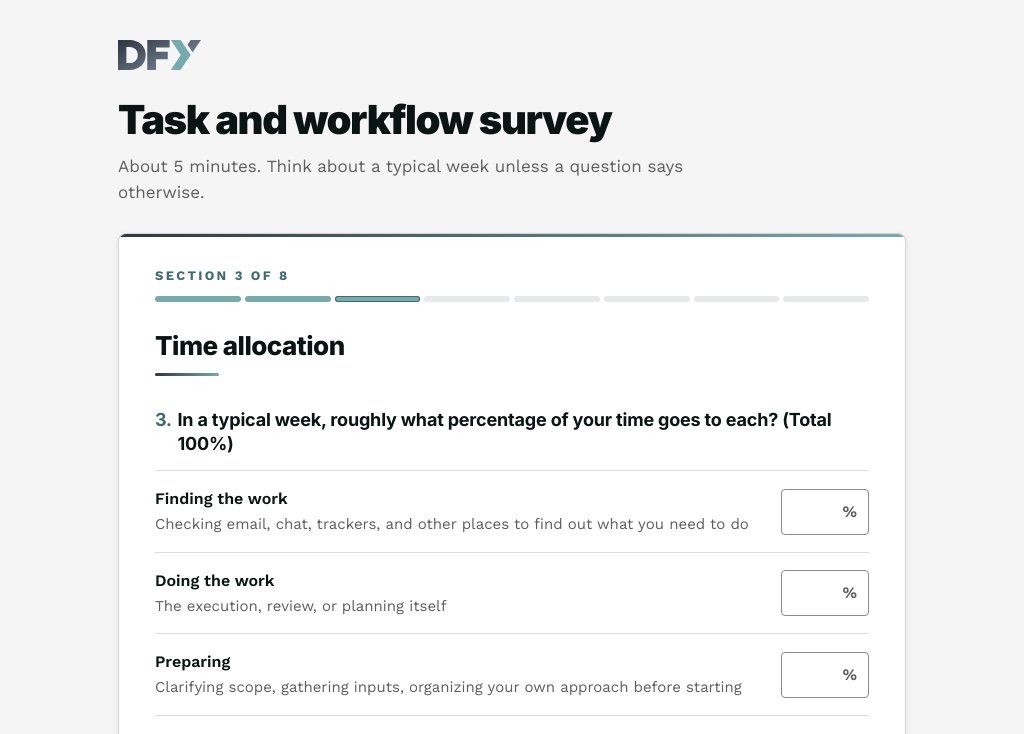
it: allocation › shows a running total and blocks Next until the total is exactly 100
This screenshot has width=1024, height=734.
Check: the heading "Time allocation" is shown, box [155,330,345,360]
In the number field labelled "Doing the work": (825, 593) [781,570,869,616], type "50"
In the number field labelled "Preparing": (825, 674) [781,652,869,698], type "30"
(page scrolled)
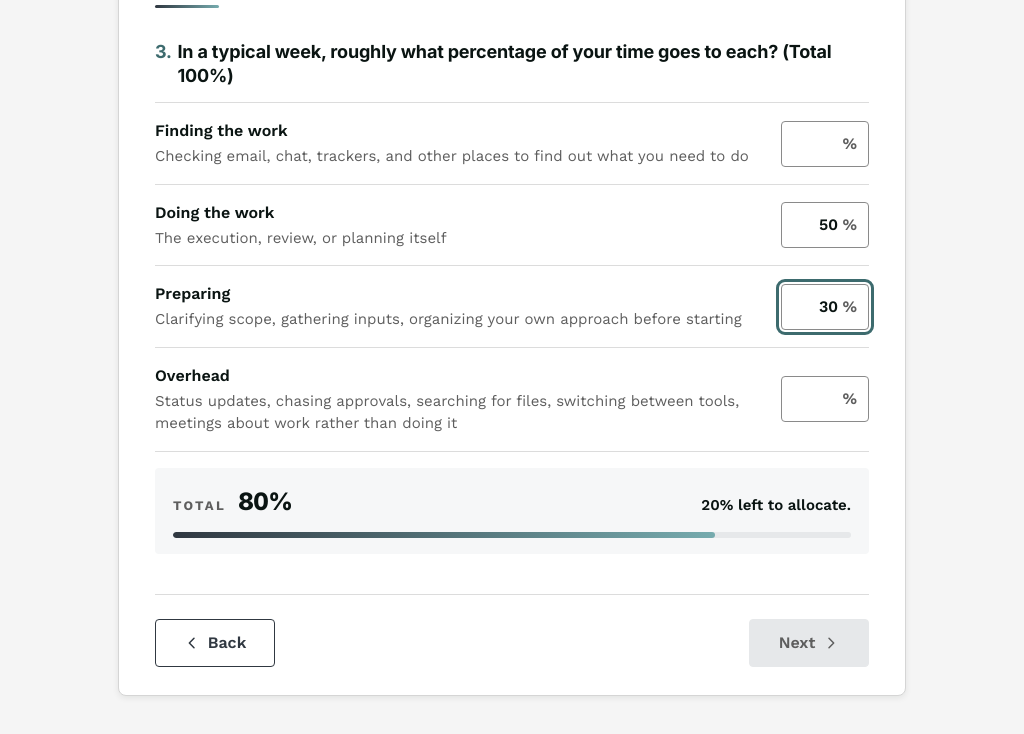
In the number field labelled "Overhead": (825, 399) [781,376,869,422], type "10"
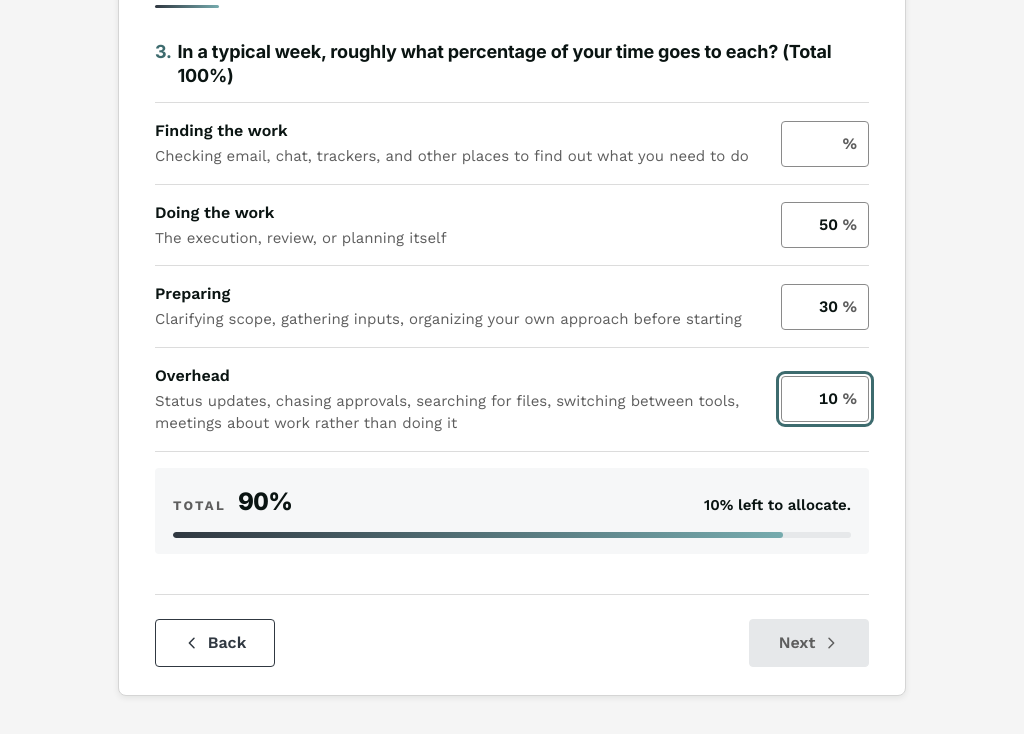
Check: the text "90%" is shown, box [238,484,292,520]
Check: the message with class "allocation__total-status" reads "10% left to allocate.", box [704,496,851,514]
Click the button "Next": (809, 643) [749,619,869,667]
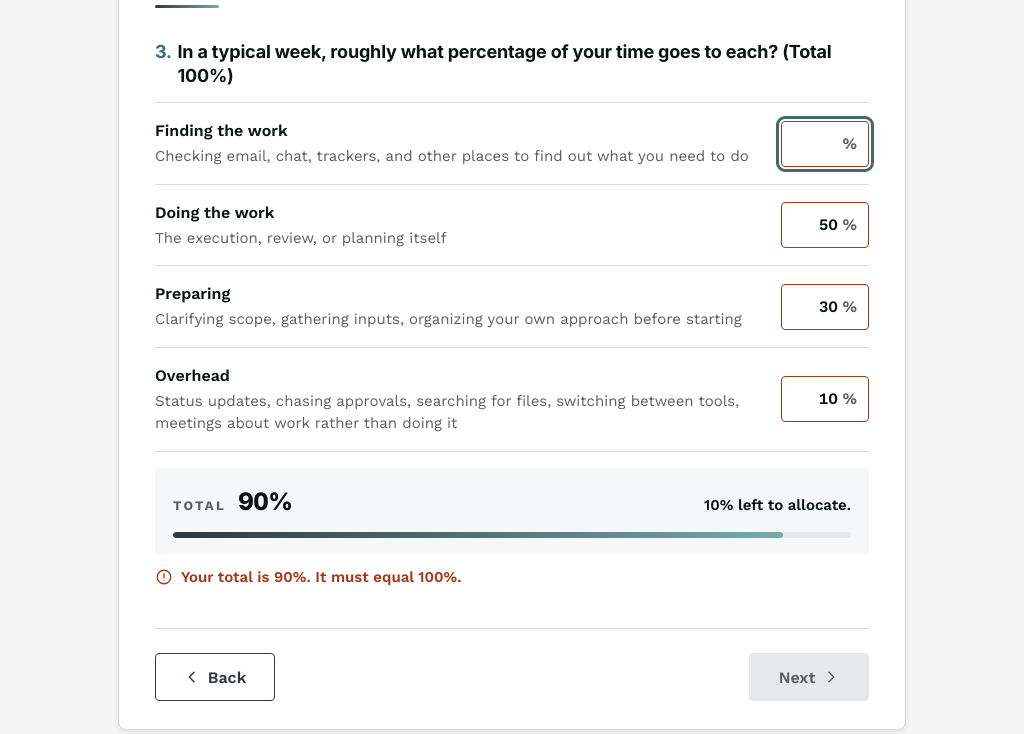
Check: the text "Your total is 90%. It must equal 100%." is shown, box [155,568,461,586]
Replace the text in the number field labelled "Overhead" with "30": (825, 399) [781,376,869,422]
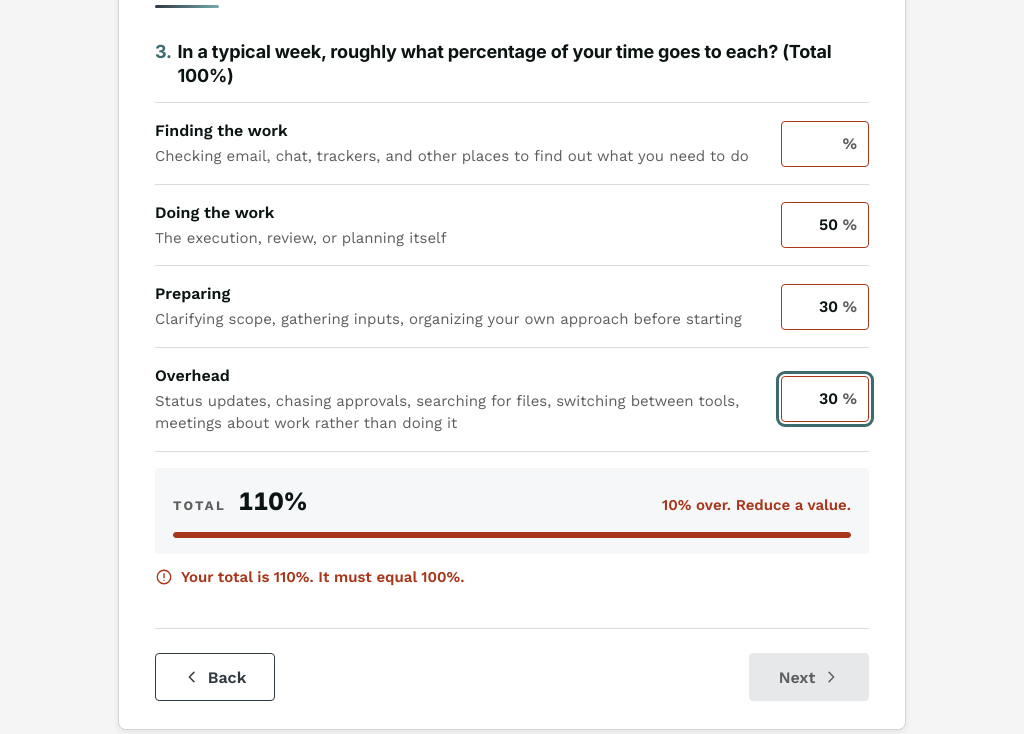
Check: the message with class "allocation__total-status" shows "10% over", box [662,496,851,514]
Replace the text in the number field labelled "Overhead" with "20": (825, 399) [781,376,869,422]
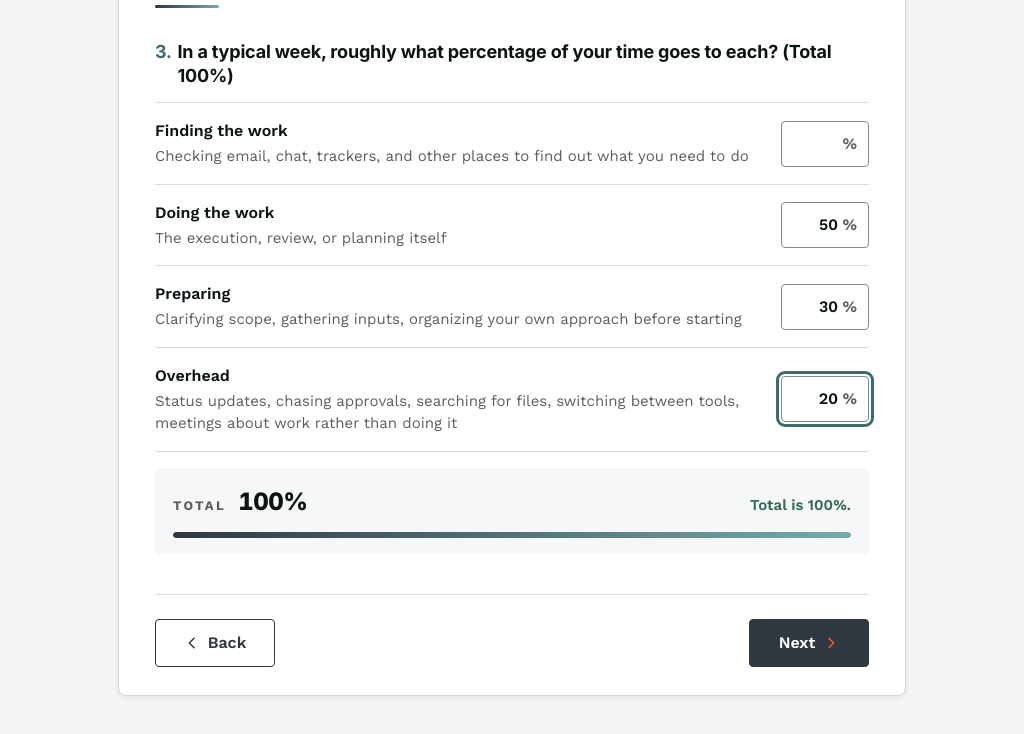
Check: the text "100%" is shown, box [238,484,307,520]
Click the button "Next": (809, 643) [749,619,869,667]
(page scrolled)
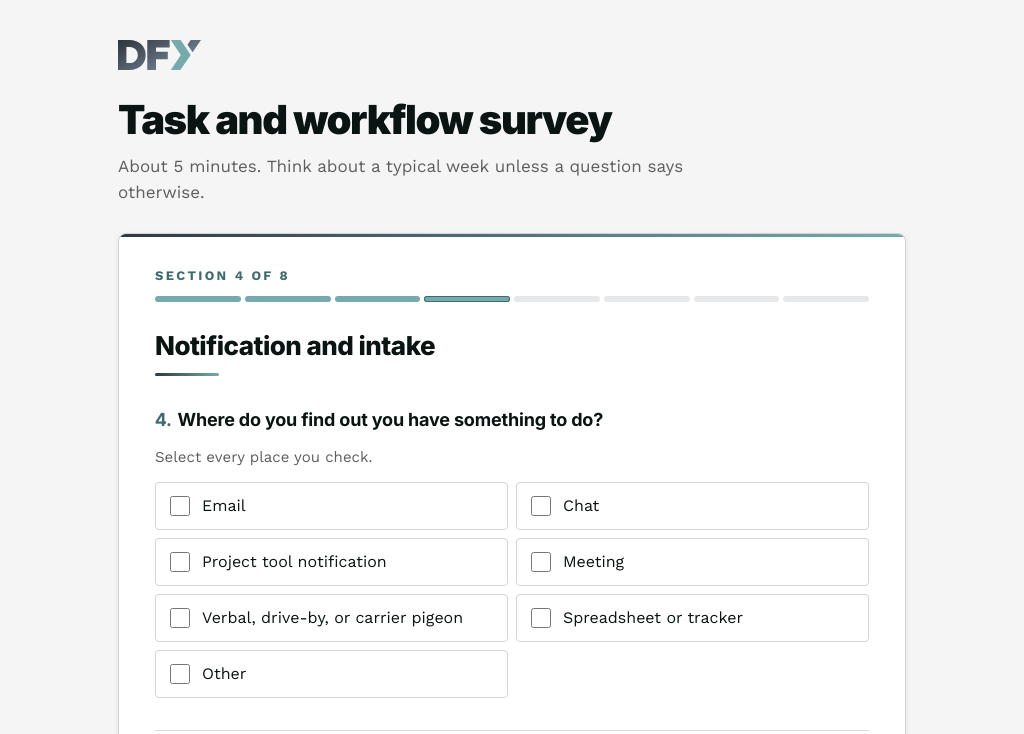
Check: the heading "Notification and intake" is shown, box [155,330,435,360]
